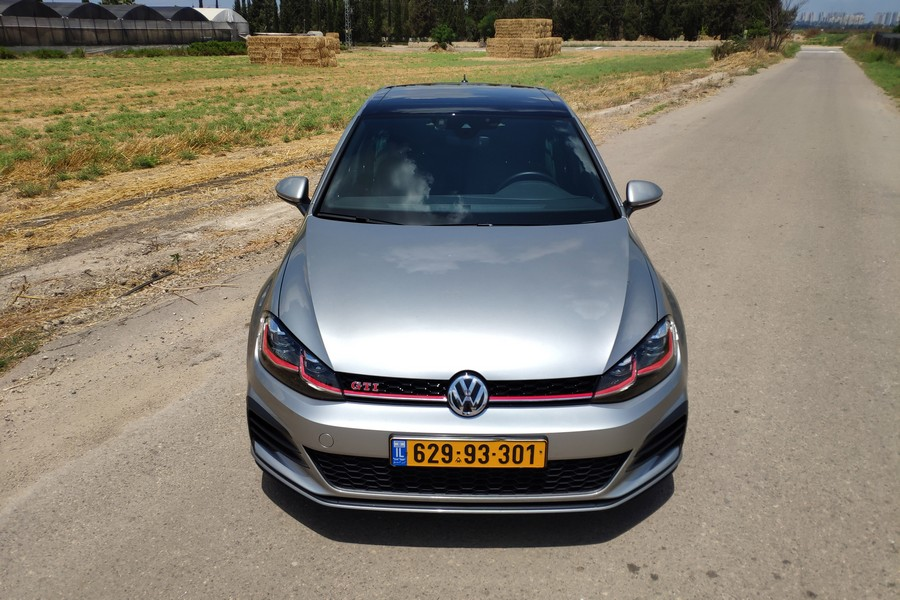licence: (388, 433, 549, 471)
